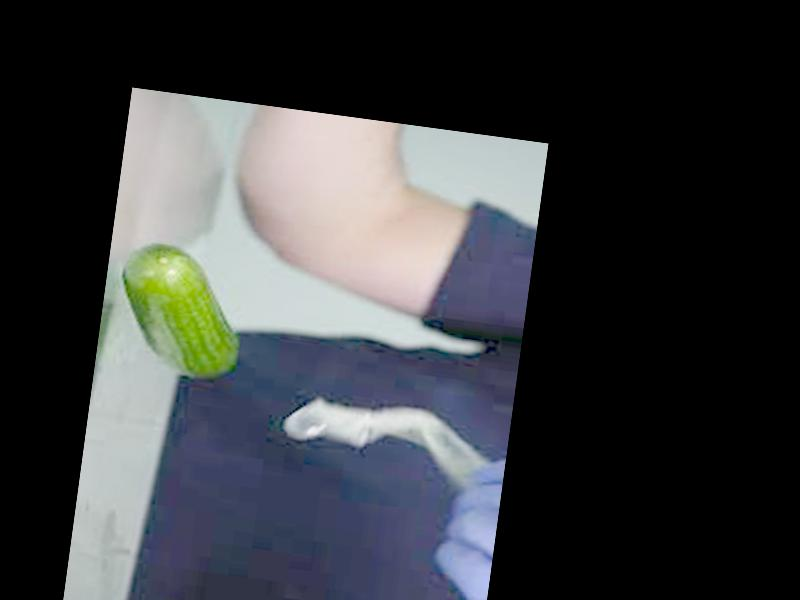Cucumber: (109, 238, 250, 381)
